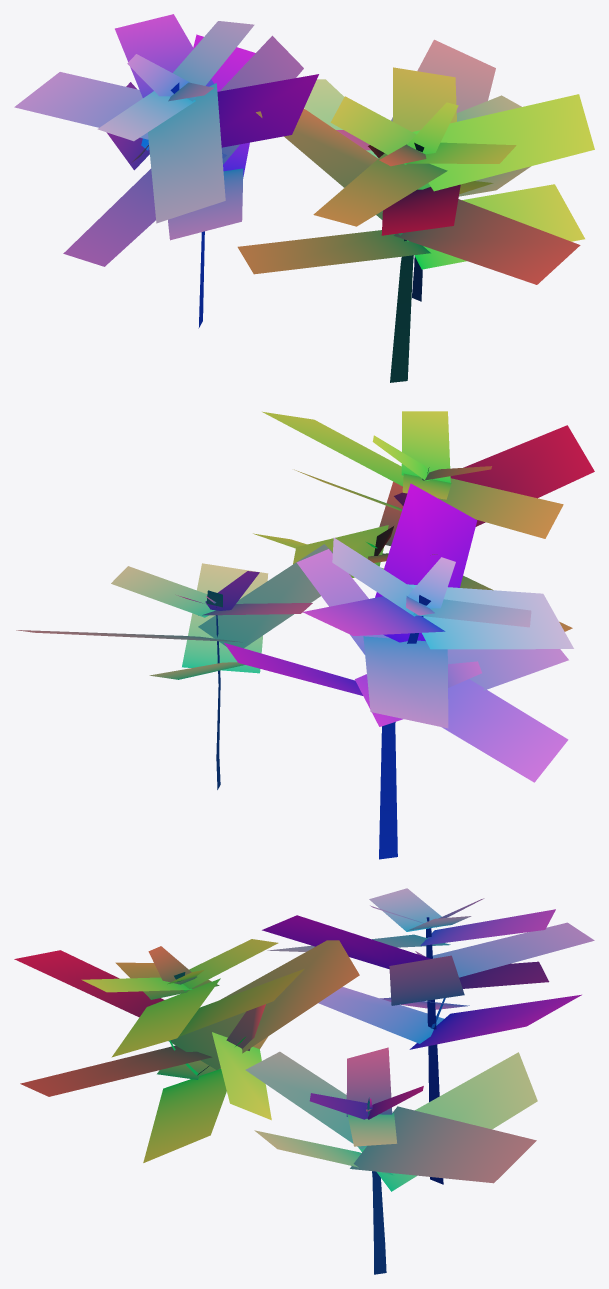
Rendered from Common_Hemp_Nettle_xh1kdfbqx_Low_xh1kdfbqx_VarE_LOD2.fbx.
The picture shows the model from 3 angles, top to bottom: view 1: azimuth 30°, elevation 25°; view 2: azimuth 150°, elevation 25°; view 3: azimuth 270°, elevation 25°; orthographic projection. The views are drawn at different scales.
Visible parts, largest first — view 1: _gd9c_VarE_LOD4; view 2: _gd9c_VarE_LOD4; view 3: _gd9c_VarE_LOD4.
Part boxes in pixels (x1,y1,x2,y2): _gd9c_VarE_LOD4: (14,14,594,382); _gd9c_VarE_LOD4: (16,411,594,859); _gd9c_VarE_LOD4: (14,888,594,1274).
Bounding box in the file's own units: 78.57 × 47.21 × 85.46.
